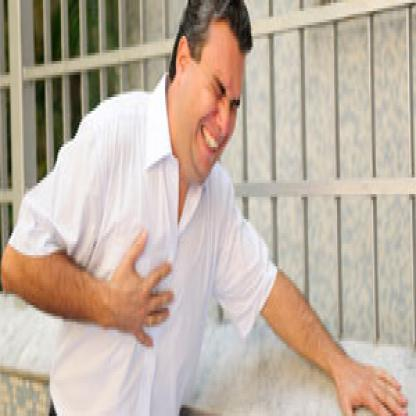pain: (205, 70, 242, 121)
